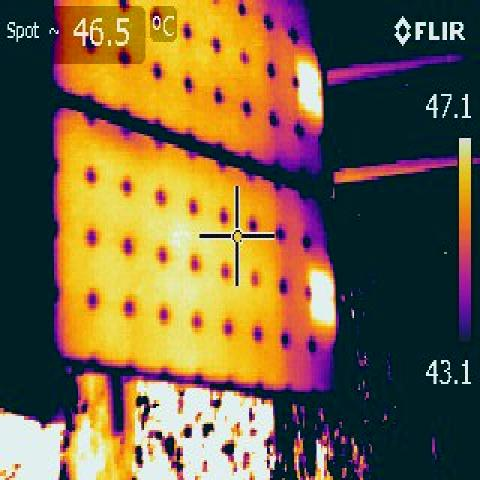fault: (307, 268, 339, 330), (297, 56, 323, 116)
